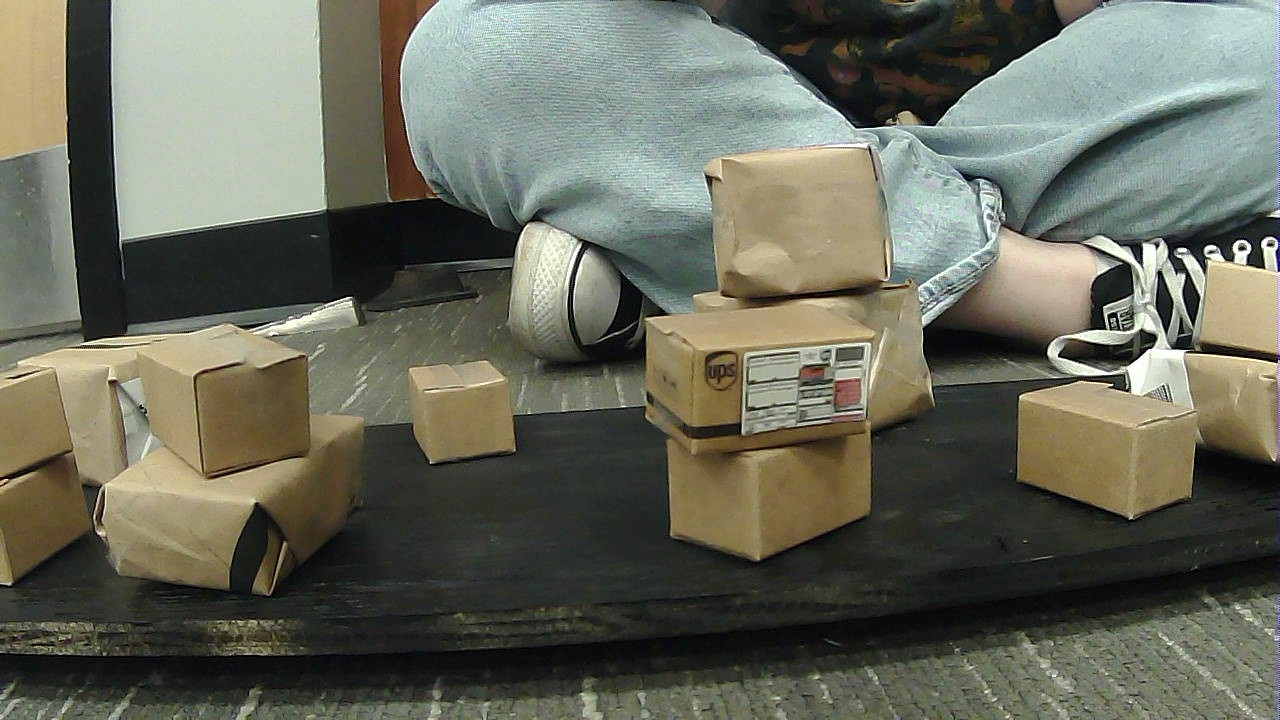package: (106, 396, 363, 596), (718, 282, 944, 441), (630, 308, 875, 441), (651, 420, 871, 554), (1004, 376, 1190, 530), (697, 151, 894, 280), (138, 319, 297, 471), (34, 332, 191, 483), (1121, 347, 1278, 471), (400, 364, 517, 470), (3, 470, 83, 586), (1190, 255, 1273, 361), (4, 368, 68, 475)
stacked: (104, 312, 357, 608), (634, 302, 880, 567), (702, 149, 930, 434), (1166, 259, 1273, 468), (4, 363, 93, 590)
